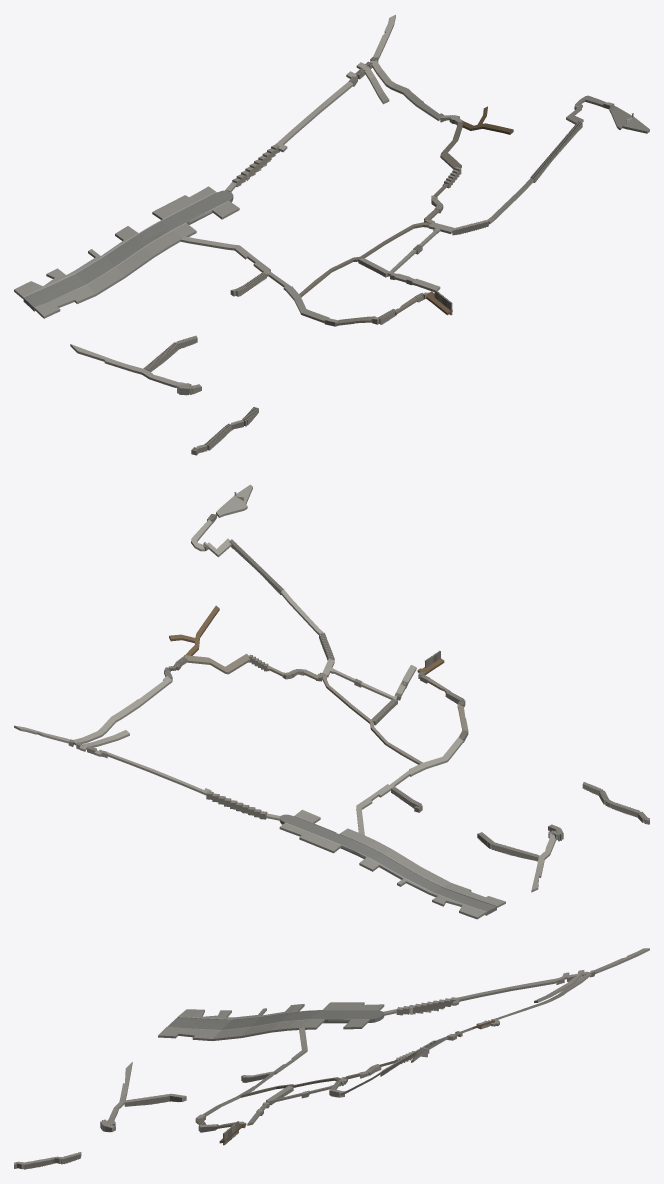
The model's file is 18-218866-118952.9fdc2a62.glb.
3 views of the same model, one above another, from view 1: azimuth 30°, elevation 25°; view 2: azimuth 150°, elevation 25°; view 3: azimuth 330°, elevation 25° (orthographic). The views are drawn at different scales.
Bounding box in the file's own units: 148 × 76.22 × 146.
